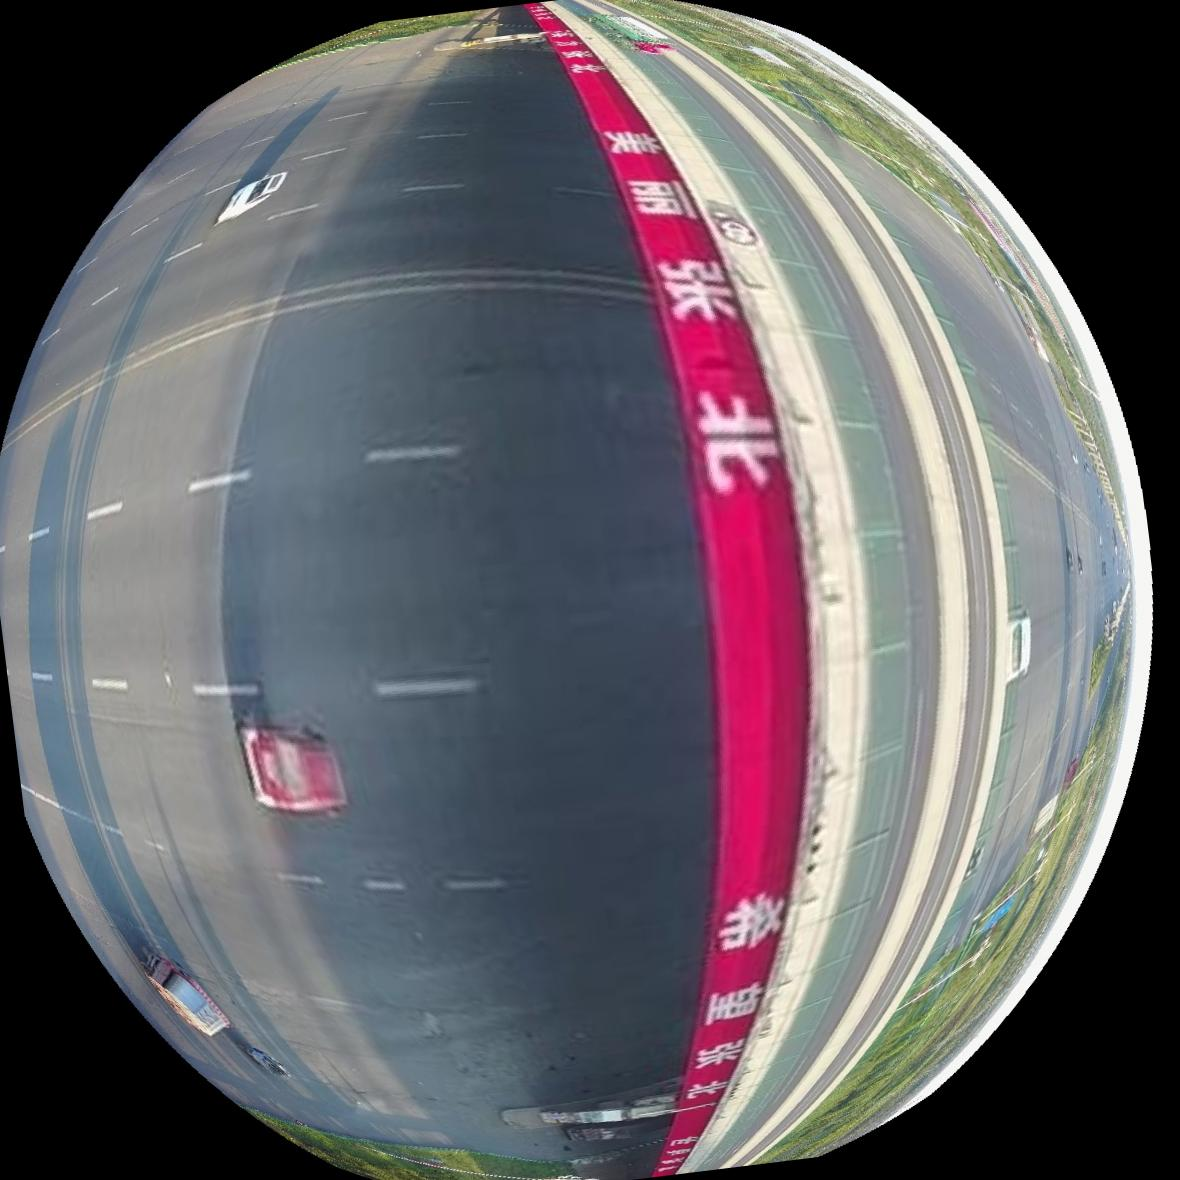cars: (238, 727, 344, 814), (140, 957, 228, 1038), (213, 172, 285, 222), (1007, 608, 1031, 682)
